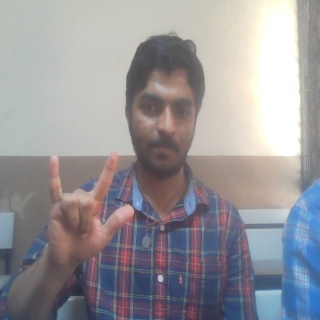I Love You: (124, 30, 206, 180), (45, 149, 135, 266)
